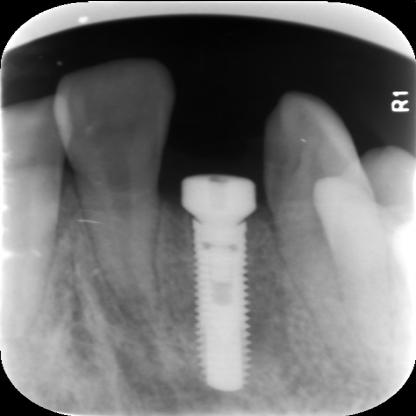Bego: (186, 220, 252, 394)
